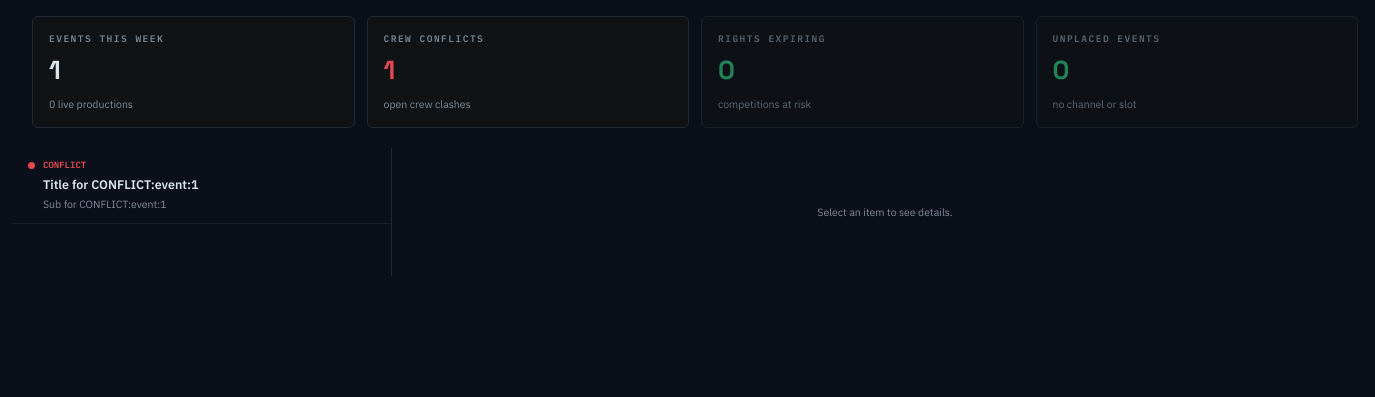
Test: inbox rows › clicking a row selects it (updates ?inbox=<key>) and highlights it
Click the option with test id "fm-home-inbox-row-CONFLICT:event:1": point(202, 186) top-left (12, 148), bottom-right (391, 224)
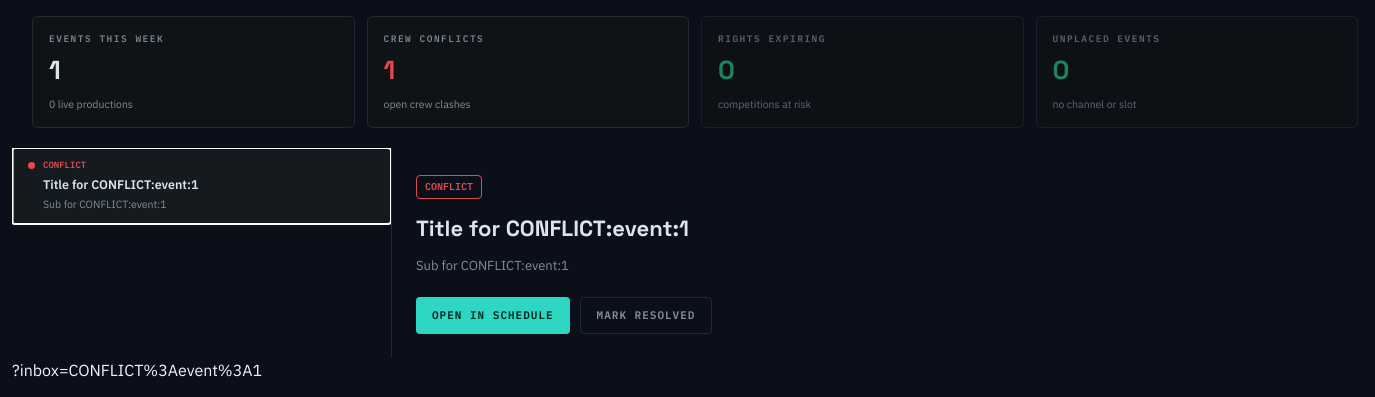
Result: the text with test id "location-search" reads "?inbox=CONFLICT%3Aevent%3A1" at top-left (12, 360), bottom-right (262, 380)
